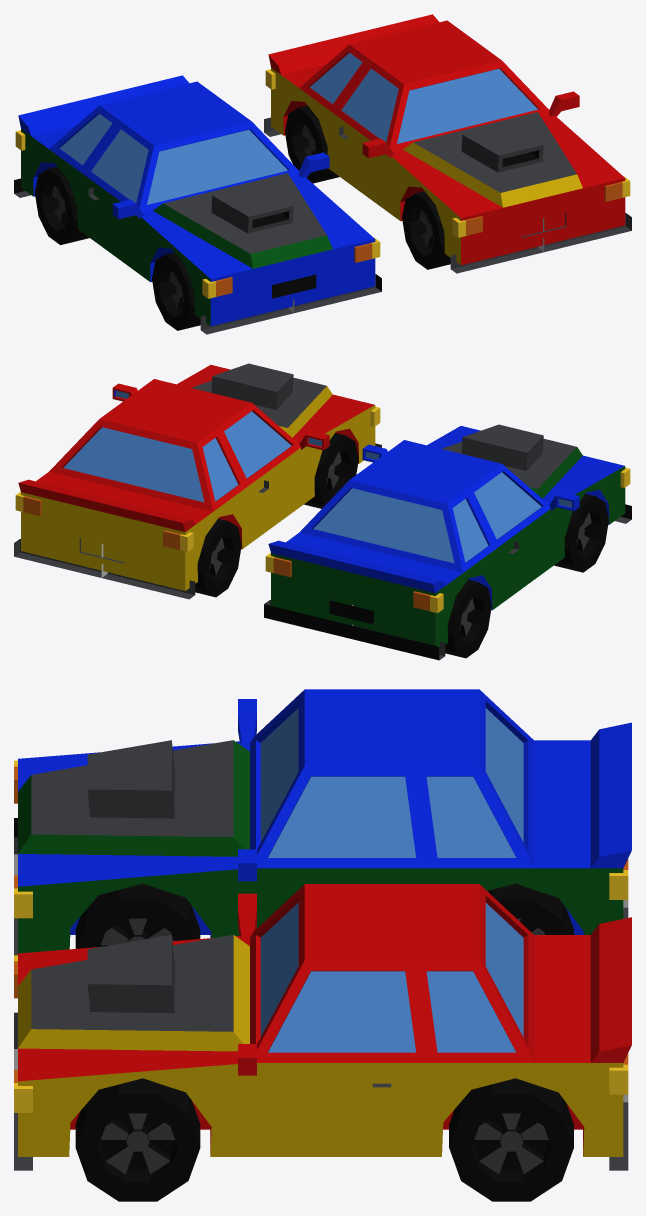
File: cars_obj.obj
The picture shows the model from 3 angles, top to bottom: view 1: azimuth 30°, elevation 25°; view 2: azimuth 150°, elevation 25°; view 3: azimuth 270°, elevation 25°; orthographic projection. The views are drawn at different scales.
Visible parts, largest first — view 1: Cube.001, Cube.002_Cube.011; view 2: Cube.001, Cube.002_Cube.011; view 3: Cube.002_Cube.011, Cube.001.
Part boxes in pixels (left/top/right/bottom): Cube.001: left=14, top=75, right=381, bottom=334; Cube.002_Cube.011: left=264, top=14, right=631, bottom=273; Cube.001: left=264, top=424, right=631, bottom=660; Cube.002_Cube.011: left=14, top=363, right=381, bottom=599; Cube.002_Cube.011: left=14, top=884, right=631, bottom=1201; Cube.001: left=14, top=689, right=631, bottom=955.
Bounding box in the file's own units: 5.61 × 1.56 × 4.08.
